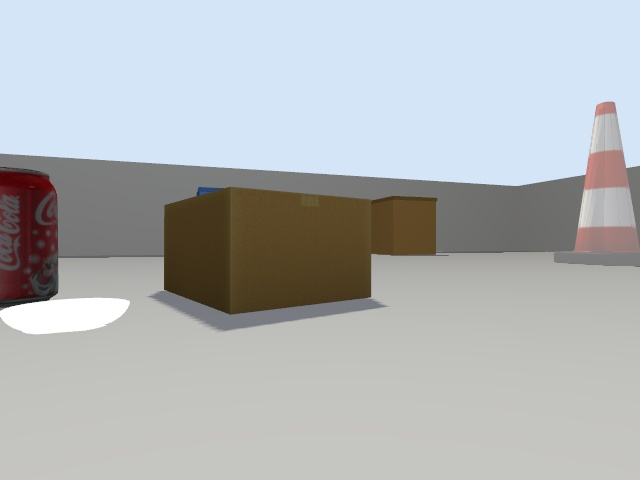bol: (0, 297, 129, 334)
canette: (0, 167, 58, 306)
carton: (164, 187, 370, 313)
cone_chantier: (554, 102, 639, 265)
